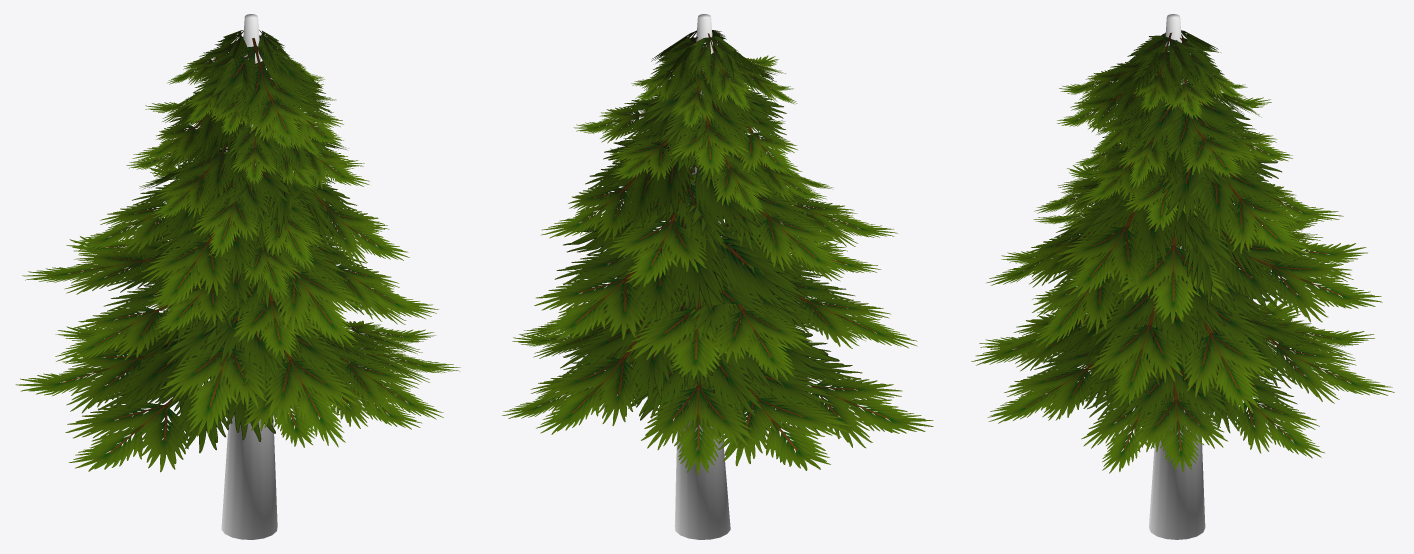
File: StylizedTree01_LOD0.fbx
3 views of the same model, side by side, from view 1: azimuth 30°, elevation 25°; view 2: azimuth 150°, elevation 25°; view 3: azimuth 270°, elevation 25° (orthographic).
Parts seen in each view (by area): view 1: Branches, Trunk; view 2: Branches, Trunk; view 3: Branches, Trunk.
Part boxes in pixels (x1=…): Branches: x1=15, y1=30, x2=460, y2=472; Trunk: x1=221, y1=14, x2=277, y2=539; Branches: x1=502, y1=30, x2=933, y2=474; Trunk: x1=674, y1=14, x2=730, y2=539; Branches: x1=971, y1=30, x2=1394, y2=473; Trunk: x1=1149, y1=14, x2=1205, y2=539.
Bounding box in the file's own units: 632 × 776 × 591.
2 materials, 1 textured.
